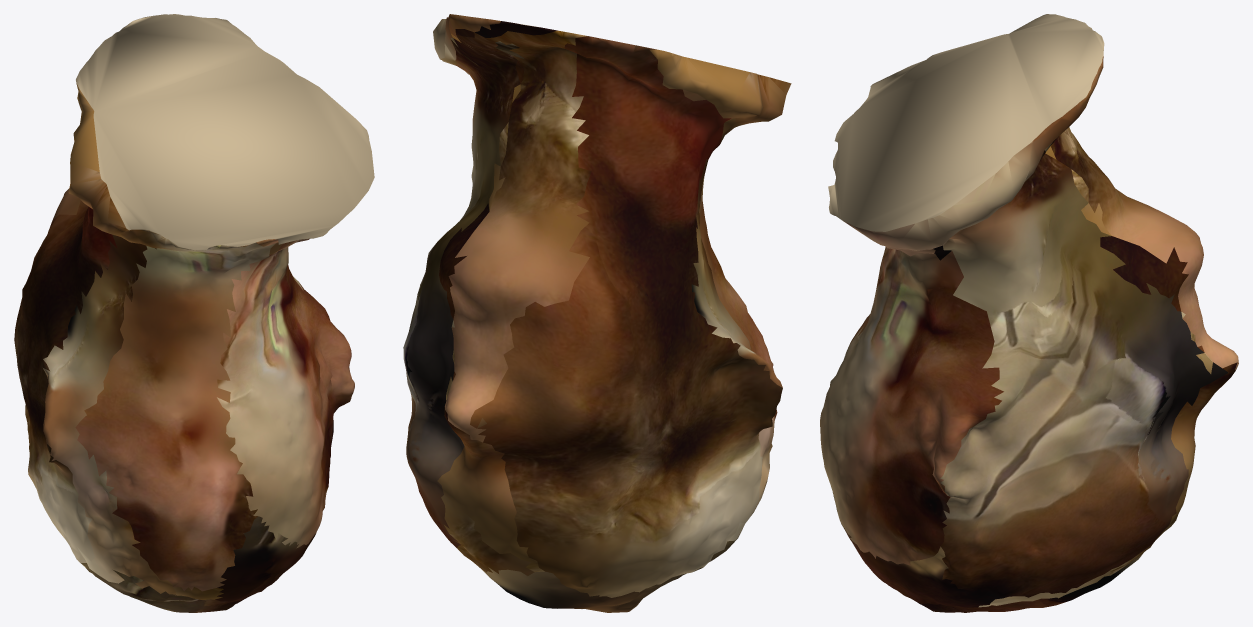
The model's file is mig.obj.
The picture shows the model from 3 angles, left to right: view 1: azimuth 30°, elevation 25°; view 2: azimuth 150°, elevation 25°; view 3: azimuth 270°, elevation 25°; orthographic projection. The views are drawn at different scales.
Parts seen in each view (by area): view 1: mesh; view 2: mesh; view 3: mesh.
Part boxes in pixels (x1,y1,x2,y2): mesh: [14, 14, 374, 612]; mesh: [403, 14, 791, 612]; mesh: [820, 14, 1238, 612].
Bounding box in the file's own units: 0.313 × 0.5107 × 0.3442.
